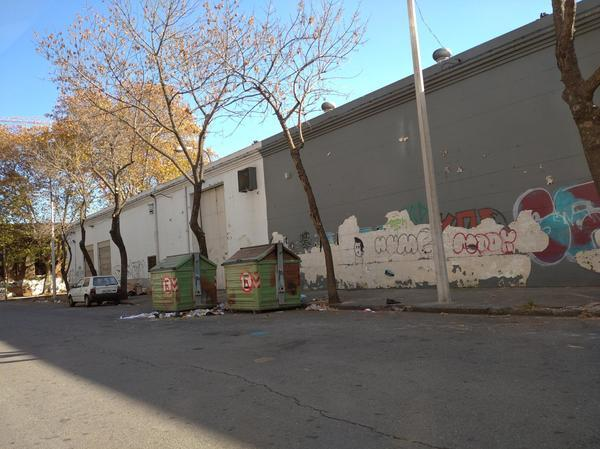Dechets: (120, 304, 224, 319), (303, 288, 335, 315), (119, 275, 147, 297), (363, 303, 375, 315)
Trash: (221, 243, 300, 311), (150, 253, 217, 312)
